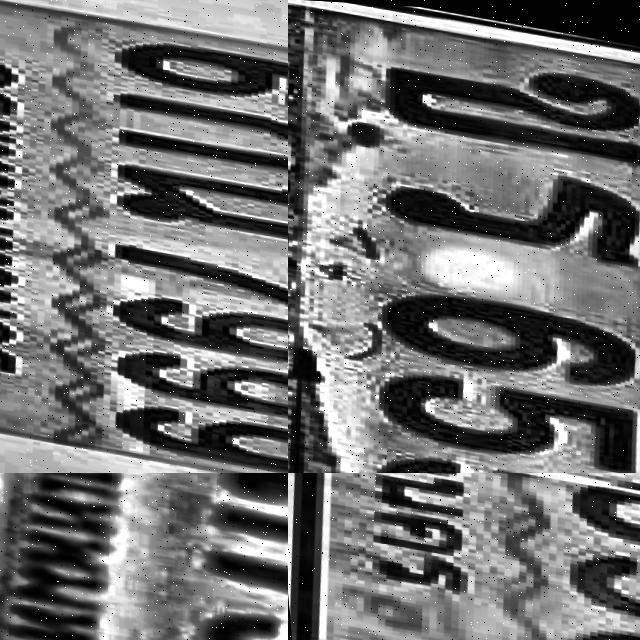license-plate: (288, 0, 640, 473), (0, 0, 288, 473), (288, 473, 640, 640), (0, 473, 288, 640)
